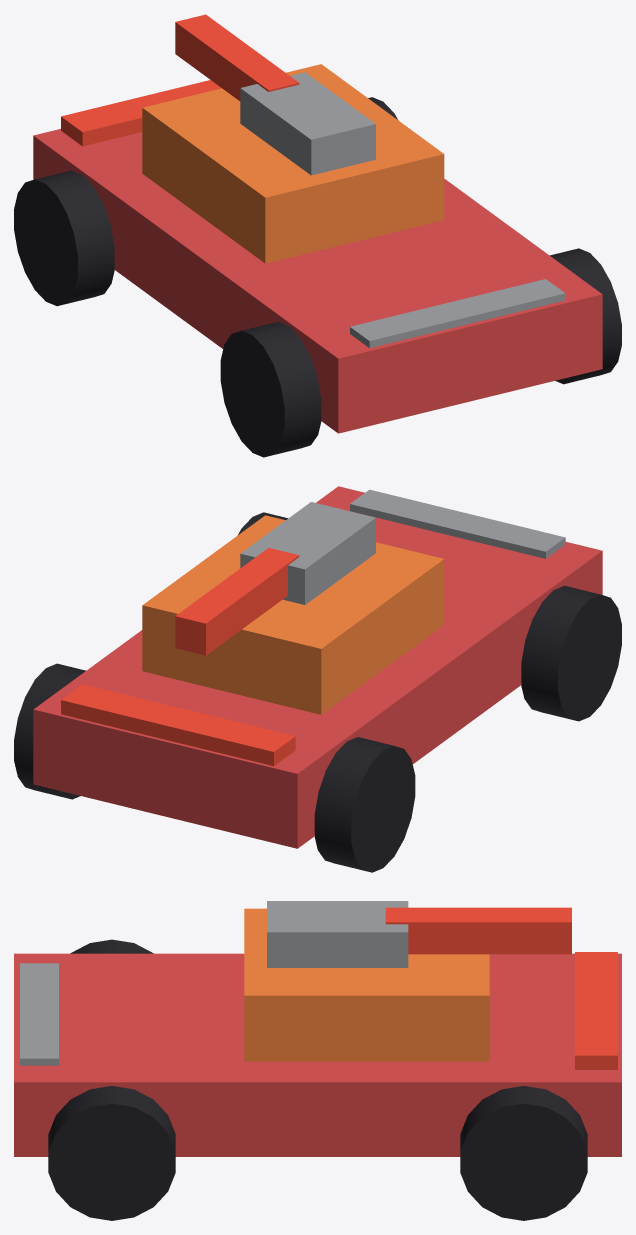
Rendered from enemy_car.glb.
3 renders of one model, top to bottom at view 1: azimuth 30°, elevation 25°; view 2: azimuth 150°, elevation 25°; view 3: azimuth 270°, elevation 25°, orthographic.
Visible parts, largest first — view 1: enemy_car; view 2: enemy_car; view 3: enemy_car.
Boxes of the visible parts, bbox=[...] form: enemy_car: bbox=[14, 14, 621, 457]; enemy_car: bbox=[14, 486, 621, 872]; enemy_car: bbox=[14, 901, 621, 1220].
Bounding box in the file's own units: 1.98 × 1.26 × 3.1.
